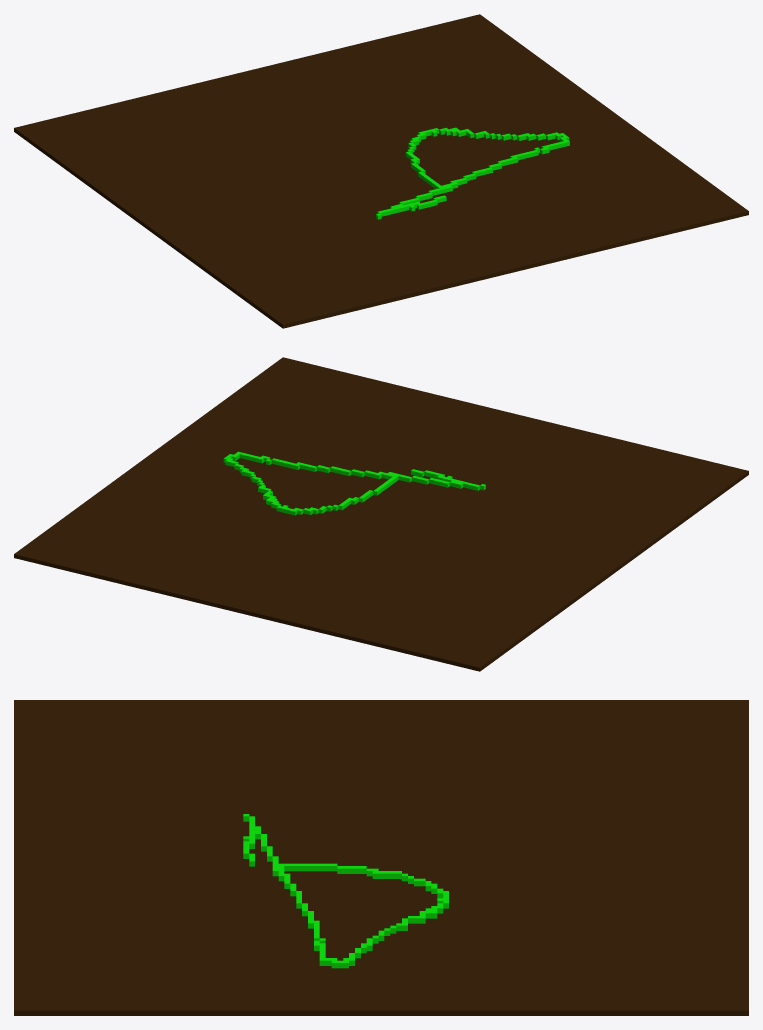
Rendered from Level01-8.obj.
The picture shows the model from 3 angles, top to bottom: view 1: azimuth 30°, elevation 25°; view 2: azimuth 150°, elevation 25°; view 3: azimuth 270°, elevation 25°; orthographic projection. The views are drawn at different scales.
Parts seen in each view (by area): view 1: Level01-8; view 2: Level01-8; view 3: Level01-8.
Boxes of the visible parts, x1,y1,x2,y2 form: Level01-8: [14, 14, 748, 328]; Level01-8: [14, 357, 748, 671]; Level01-8: [14, 700, 748, 1015].
Bounding box in the file's own units: 125 × 2 × 125.
1 material, 1 textured.
